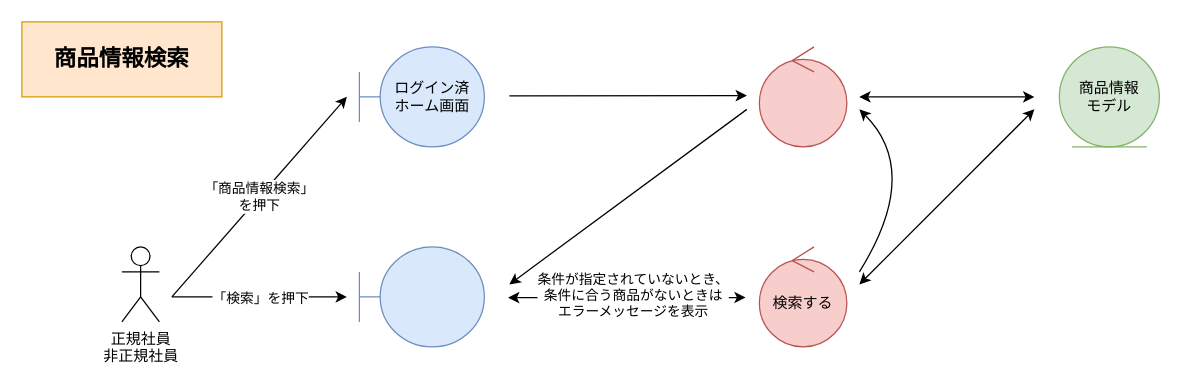
Image size: 1181x389. Some labels were removed from this diagram. The shapes that lost their labels are listed below. From the top down, each one's centre as x and y in pixels, then its label:
pixel 802 96: 商品情報 を取得する
pixel 421 296: 商品情報 セット商品 一覧画面
